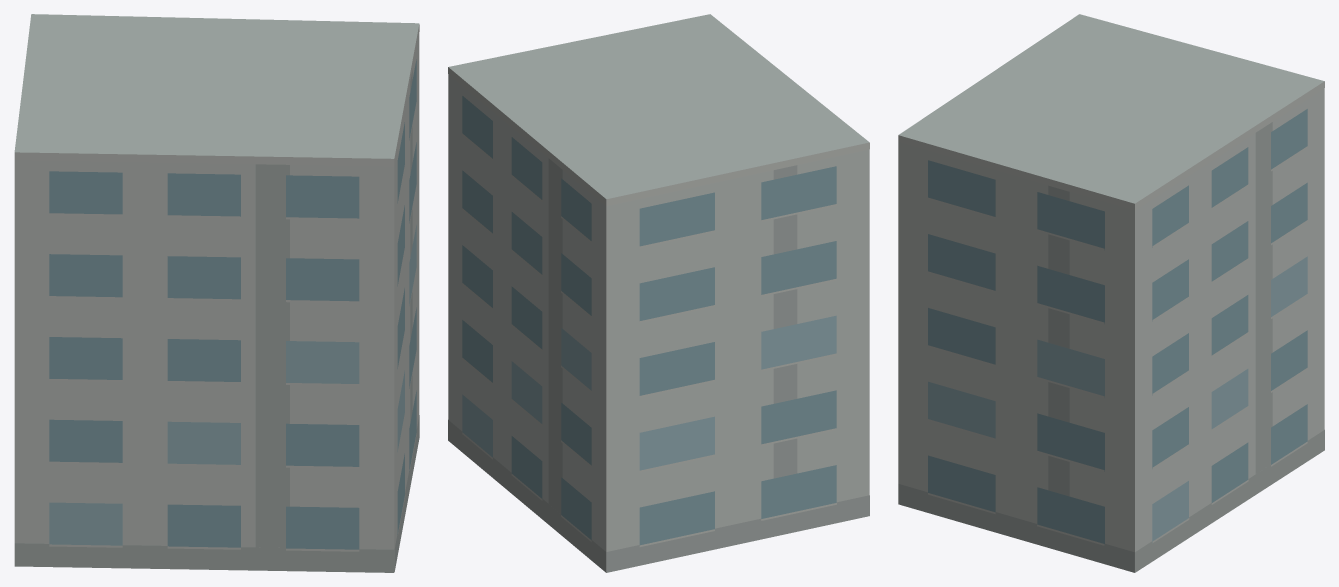
Rendered from survey-upis-32949275.glb.
3 views of the same model, side by side, from view 1: azimuth 30°, elevation 25°; view 2: azimuth 150°, elevation 25°; view 3: azimuth 270°, elevation 25° (orthographic). The views are drawn at different scales.
Parts seen in each view (by area): view 1: survey-upis-32949275.tmp; view 2: survey-upis-32949275.tmp; view 3: survey-upis-32949275.tmp.
Part boxes in pixels (box(x1,y1,x2,y2)): survey-upis-32949275.tmp: box(14, 14, 419, 572); survey-upis-32949275.tmp: box(448, 14, 869, 572); survey-upis-32949275.tmp: box(898, 14, 1324, 572).
Bounding box in the file's own units: 14.23 × 12.9 × 13.52.
